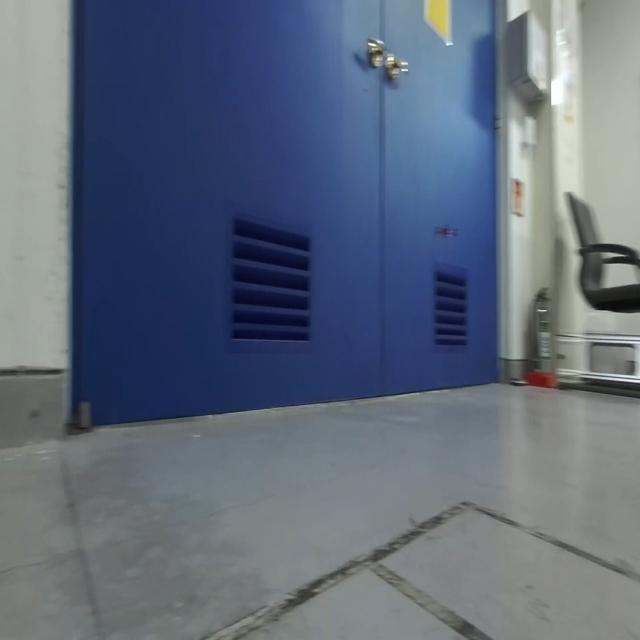crazyflie: (430, 217, 462, 250)
